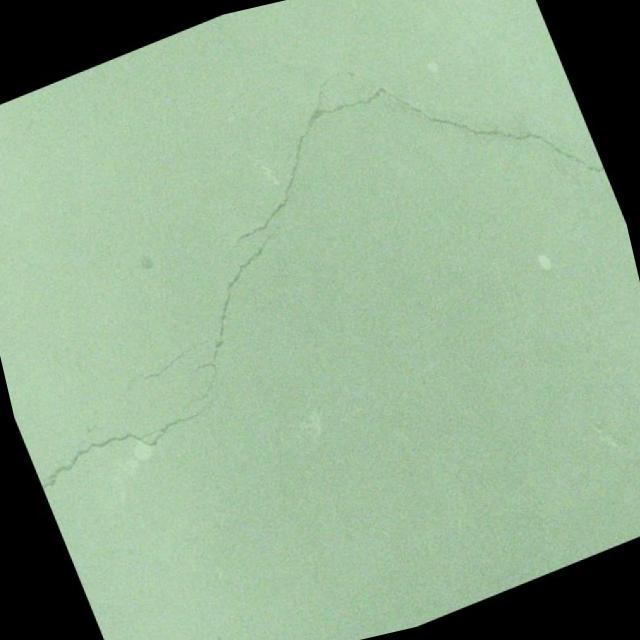crack: (157, 0, 618, 323), (124, 215, 342, 418), (21, 376, 231, 494), (214, 0, 317, 107), (95, 336, 224, 409), (206, 414, 243, 480)
